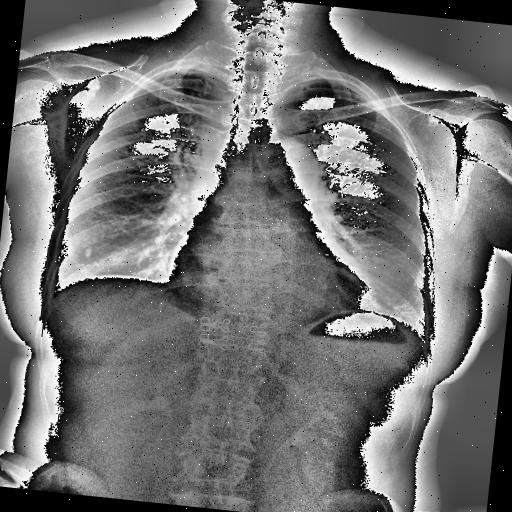0- Aortic enlargement: (250, 135, 326, 210), (256, 136, 322, 200), (254, 134, 320, 190)
11- Pleural thickening: (148, 63, 204, 89), (329, 76, 376, 104)
3- Cardiomegaly: (163, 226, 381, 318), (162, 252, 378, 324), (162, 255, 385, 316)
8- Nodule-Mass: (84, 244, 93, 258), (84, 248, 92, 259)
9- Other lesion: (84, 248, 92, 259)
